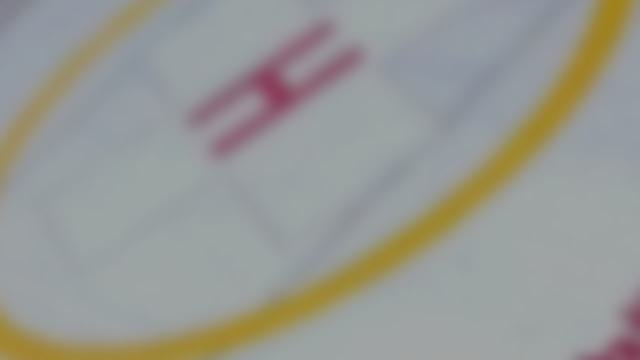Apron: (1, 1, 640, 359)
